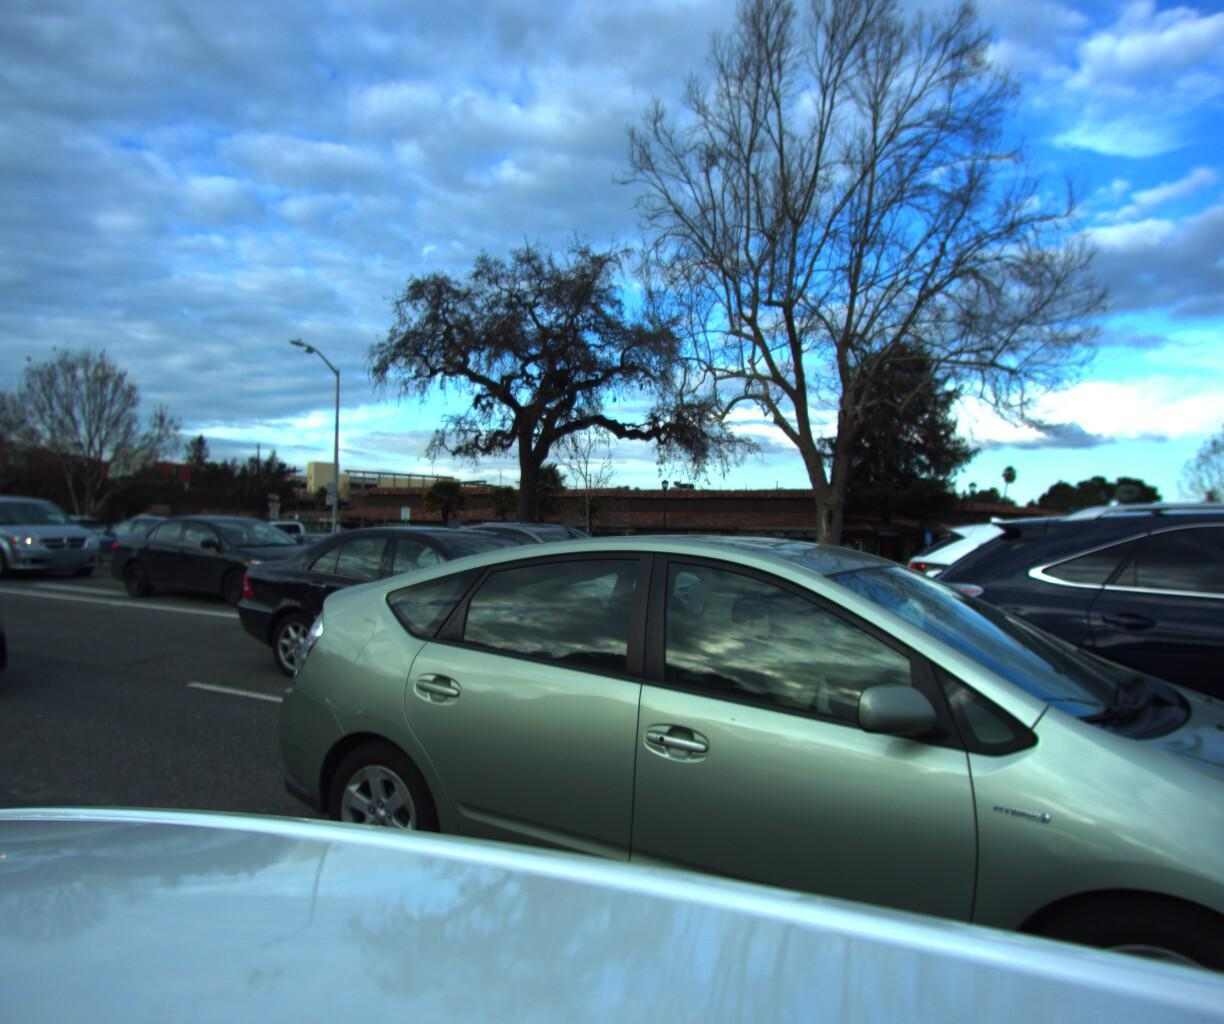car: (235, 525, 1224, 1024), (888, 492, 1224, 962), (213, 524, 715, 734), (889, 507, 1224, 746), (383, 510, 740, 662), (97, 510, 360, 613), (634, 538, 822, 604), (0, 489, 111, 580), (69, 511, 227, 570), (374, 518, 515, 580), (0, 500, 29, 750), (1, 508, 120, 556), (233, 516, 351, 553), (260, 526, 347, 569), (344, 517, 438, 551), (743, 534, 817, 578), (630, 535, 703, 575), (1212, 544, 1224, 691)
